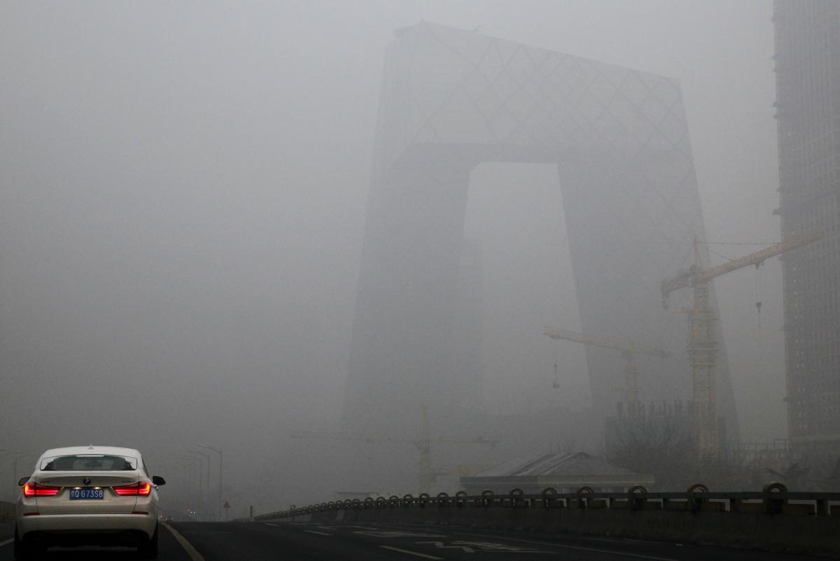car: (10, 443, 171, 559)
